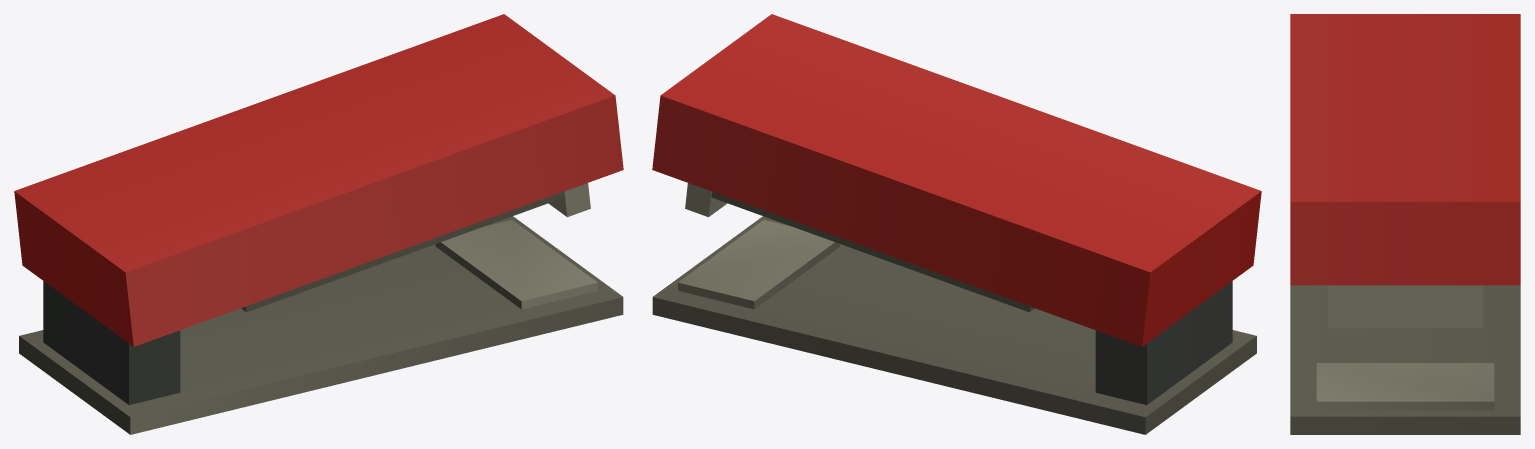
Rendered from SK_Stapler.fbx.
The picture shows the model from 3 angles, left to right: view 1: azimuth 30°, elevation 25°; view 2: azimuth 150°, elevation 25°; view 3: azimuth 270°, elevation 25°; orthographic projection. The views are drawn at different scales.
Visible parts, largest first — view 1: grapadora.006, grapadora.007, grapadora.005; view 2: grapadora.006, grapadora.007, grapadora.005; view 3: grapadora.006, grapadora.007.
Part boxes in pixels (<box>): grapadora.006: <box>14,14,623,346</box>; grapadora.007: <box>19,216,623,434</box>; grapadora.005: <box>43,281,180,404</box>; grapadora.006: <box>652,14,1261,346</box>; grapadora.007: <box>652,216,1256,434</box>; grapadora.005: <box>1095,281,1232,404</box>; grapadora.006: <box>1290,14,1520,328</box>; grapadora.007: <box>1290,285,1520,434</box>.
Bounding box in the file's own units: 40.97 × 17.38 × 15.86.
